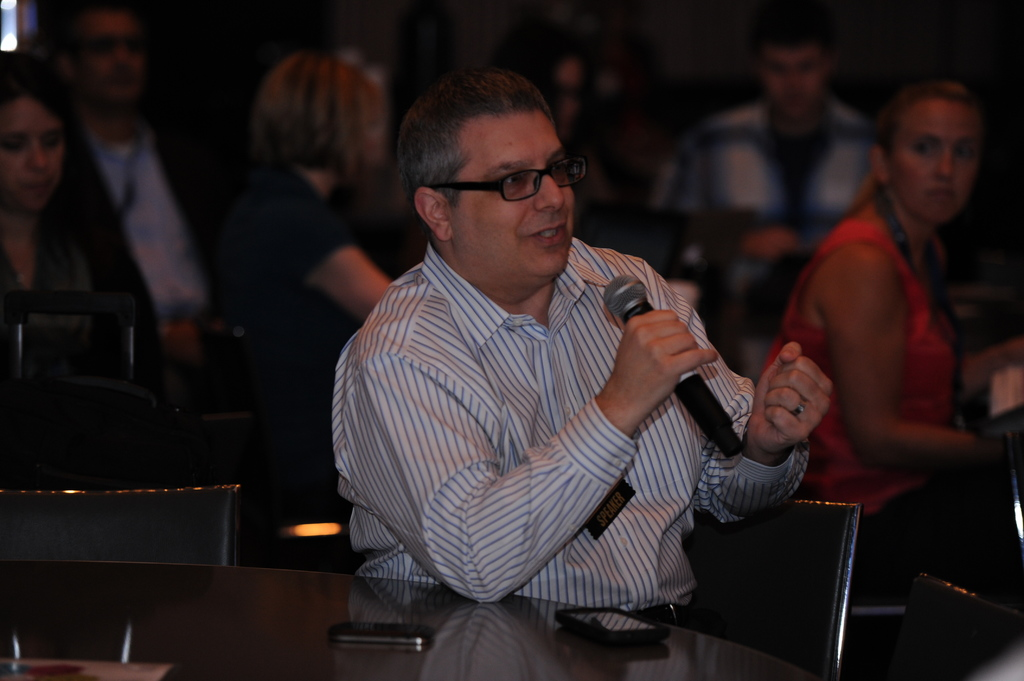Human_hand: (610, 298, 751, 437), (748, 344, 837, 454), (743, 229, 797, 263)
